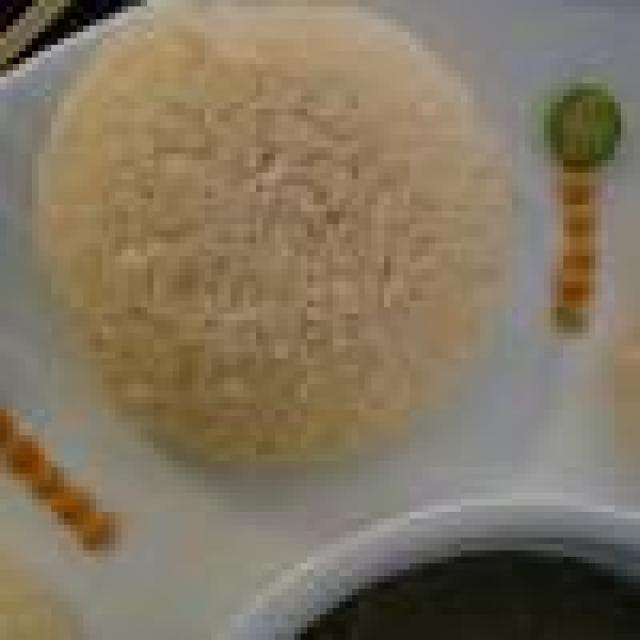idli: (32, 0, 499, 467)
